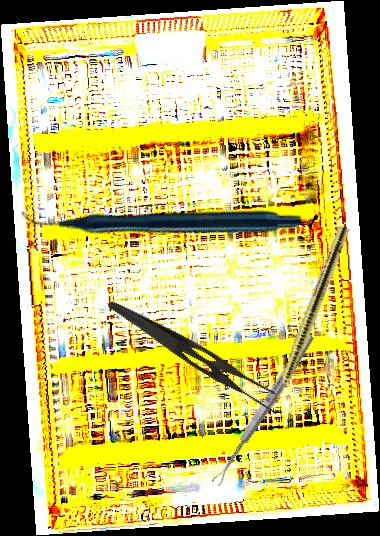Dressing Forceps: (95, 297, 291, 419)
Handpiece: (16, 80, 306, 354), (265, 224, 351, 415)
Surgical Spoon: (210, 332, 316, 488)
